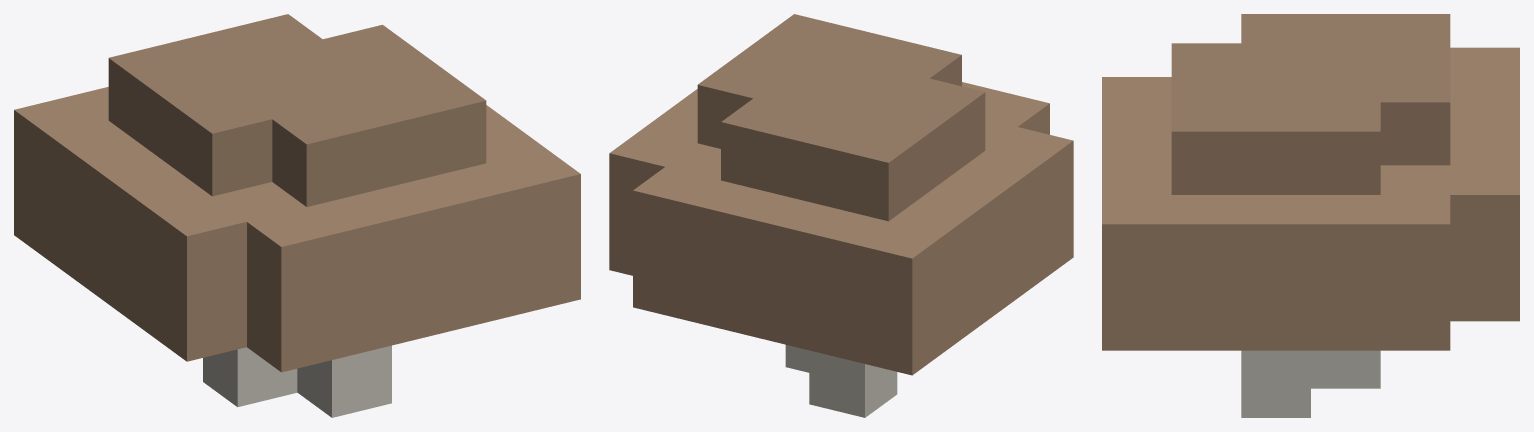
File: boletus_03.glb
3 renders of one model, left to right at view 1: azimuth 30°, elevation 25°; view 2: azimuth 150°, elevation 25°; view 3: azimuth 270°, elevation 25°, orthographic. The views are drawn at different scales.
Visible parts, largest first — view 1: boletus_03; view 2: boletus_03; view 3: boletus_03.
Part boxes in pixels (left/top/right/bottom): boletus_03: left=14, top=14, right=580, bottom=417; boletus_03: left=609, top=14, right=1073, bottom=417; boletus_03: left=1102, top=14, right=1519, bottom=417.
Bounding box in the file's own units: 0.6 × 0.5 × 0.6.
